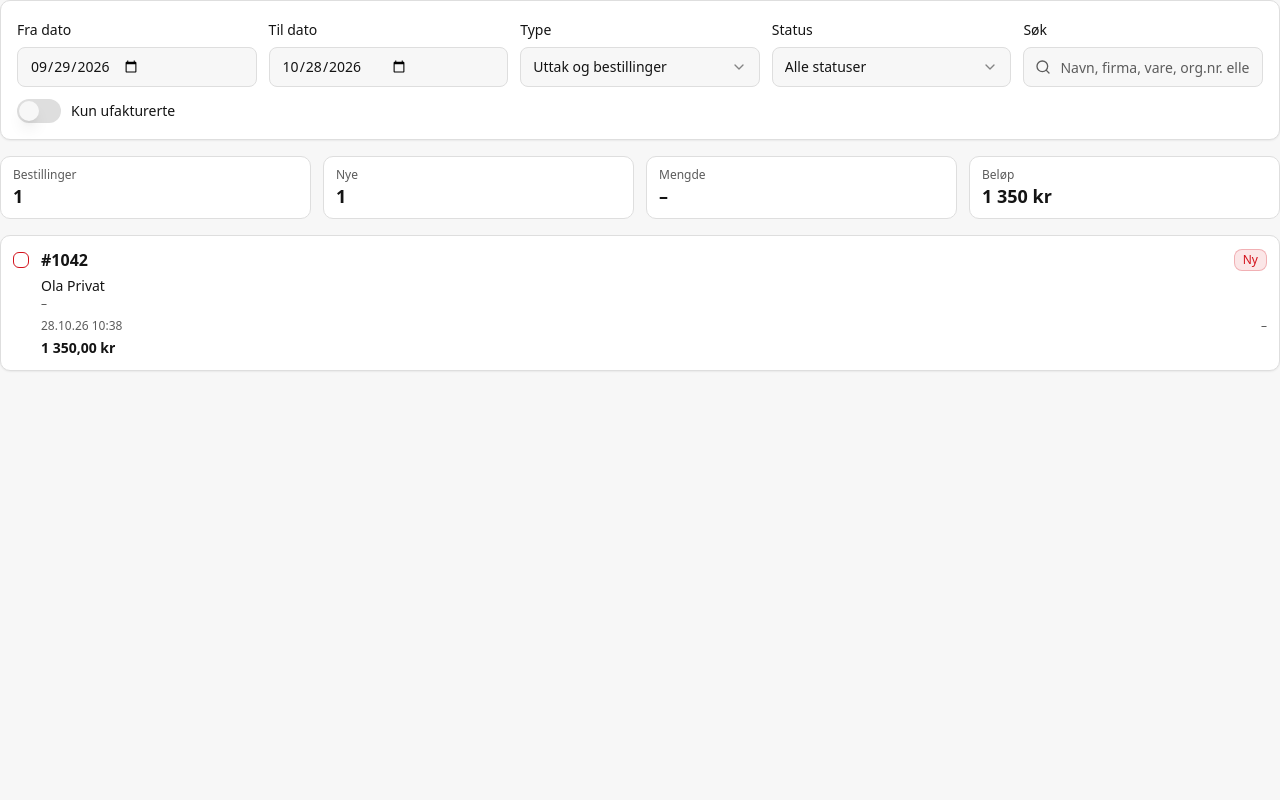
Test: sletting › eit uttak kan slettast som før
The image size is (1280, 800).
Click the text "Ola Privat" at (73, 285), box top-left (41, 276), bottom-right (105, 294)
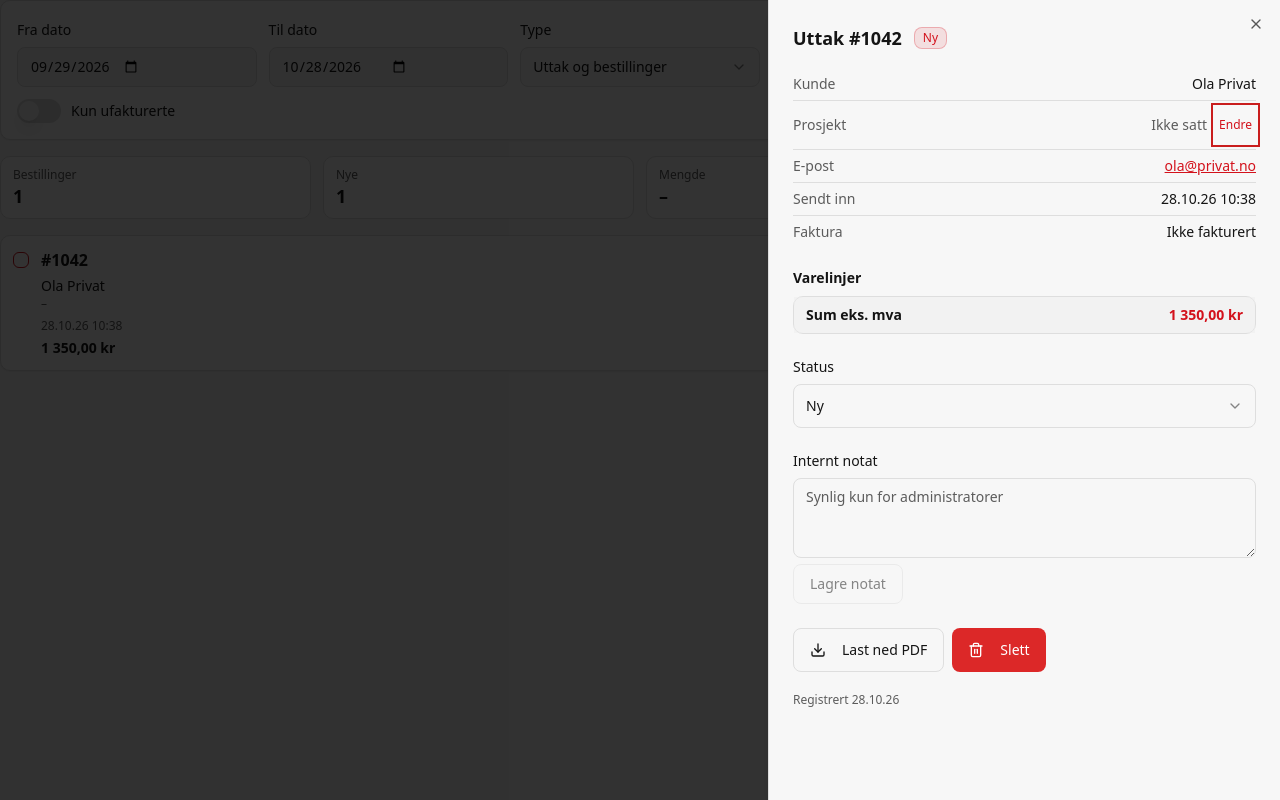
Now the button "Slett" is shown, box top-left (952, 628), bottom-right (1046, 672)
